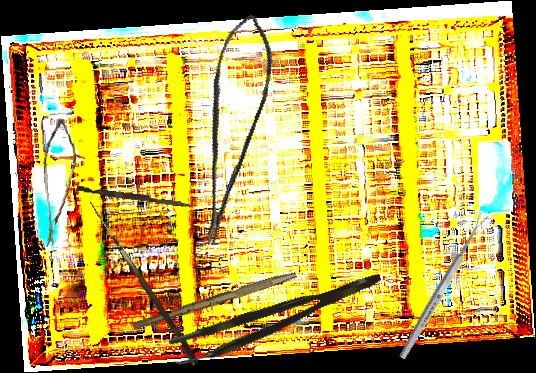Hook Surgical: (81, 200, 203, 367)
Micro Scissor: (164, 8, 290, 247), (33, 117, 85, 248)
Pusher: (75, 185, 198, 209)
Scalpel Handle: (131, 266, 298, 334)
Surgical Spoon: (397, 211, 490, 361)
Tissue Forceps: (166, 270, 389, 370)
